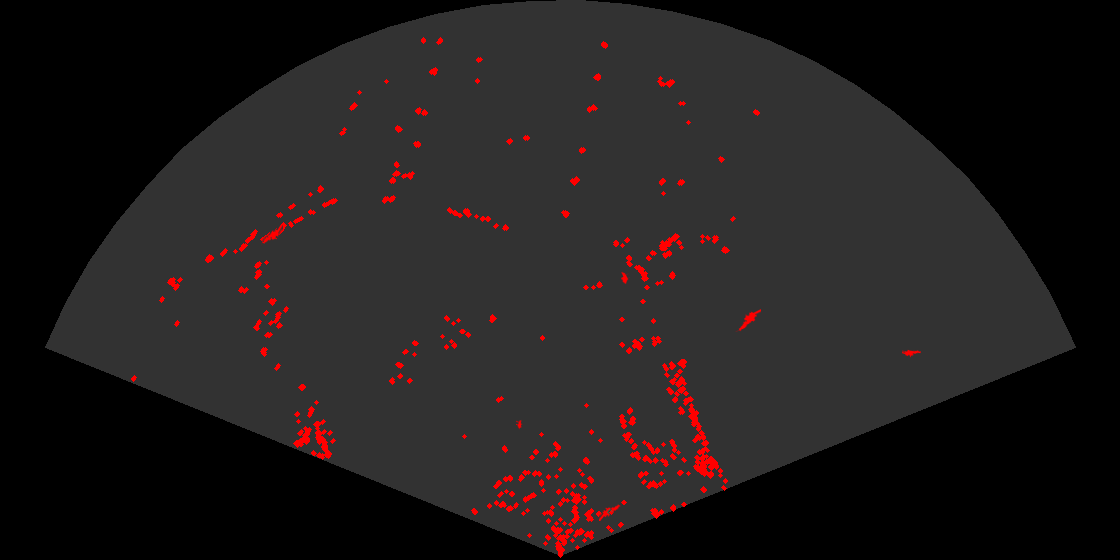AUV: (619, 270, 630, 286), (516, 419, 524, 430)
frogman: (734, 308, 761, 332), (261, 225, 283, 247), (599, 502, 622, 521), (902, 348, 921, 359)
